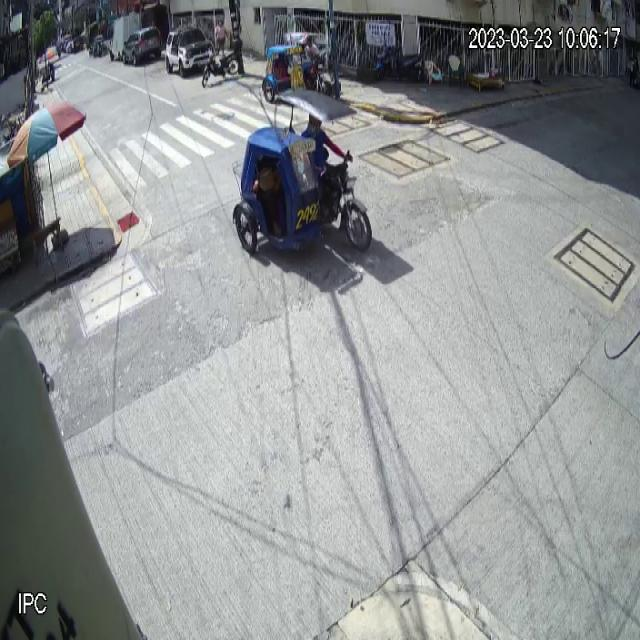Tricycle: (233, 86, 373, 255)
